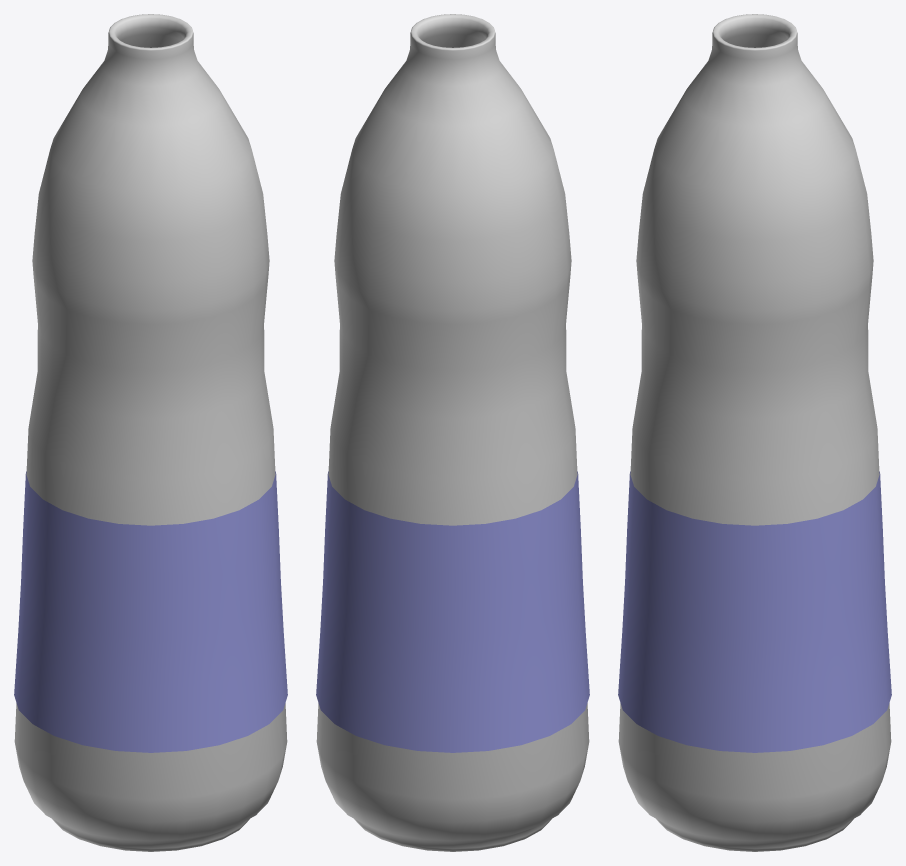
Rendered from botol air 2.fbx.
3 renders of one model, left to right at view 1: azimuth 30°, elevation 25°; view 2: azimuth 150°, elevation 25°; view 3: azimuth 270°, elevation 25°, orthographic.
Parts seen in each view (by area): view 1: botol air, botol air.002; view 2: botol air, botol air.002; view 3: botol air, botol air.002.
Part boxes in pixels (x1,y1,x2,y2): botol air: (14, 14, 287, 851); botol air.002: (14, 471, 287, 752); botol air: (316, 14, 589, 851); botol air.002: (316, 471, 589, 752); botol air: (618, 14, 891, 851); botol air.002: (618, 471, 891, 752).
Bounding box in the file's own units: 26.59 × 83.46 × 26.59.
